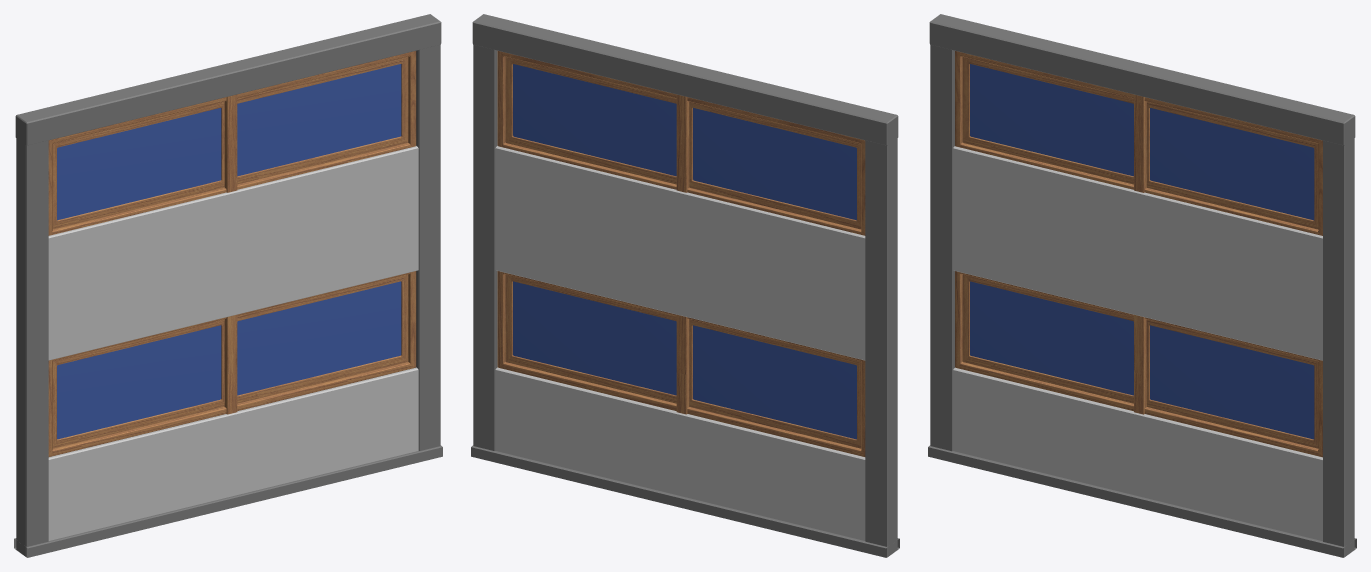
File: SM_wall_windows_03.fbx
3 views of the same model, side by side, from view 1: azimuth 30°, elevation 25°; view 2: azimuth 150°, elevation 25°; view 3: azimuth 330°, elevation 25° (orthographic).
Parts seen in each view (by area): view 1: Wall_windows_006; view 2: Wall_windows_006; view 3: Wall_windows_006.
Part boxes in pixels (bbox=[...]): Wall_windows_006: bbox=[14, 14, 442, 557]; Wall_windows_006: bbox=[471, 14, 899, 557]; Wall_windows_006: bbox=[928, 14, 1356, 557].
Size of the model in its own units: 158 by 158 by 8.89.
